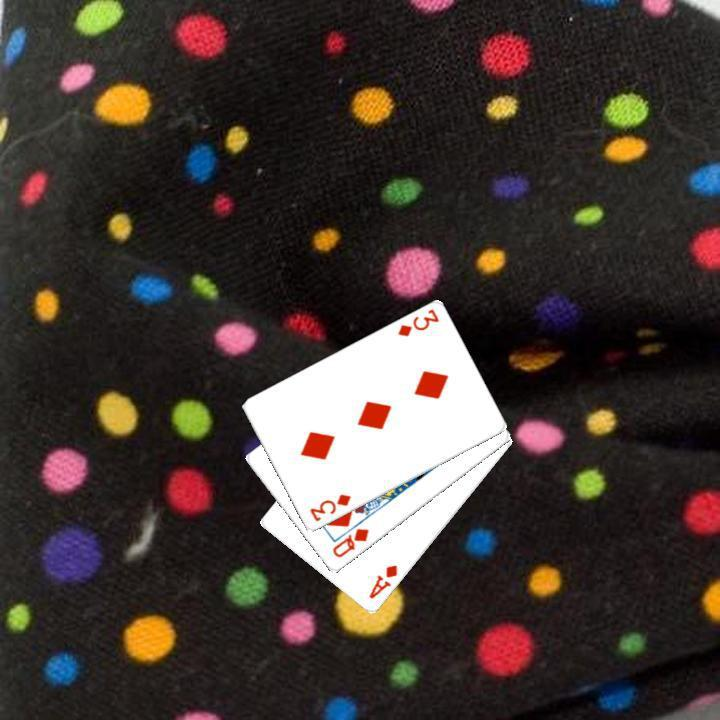3: (305, 490, 353, 524), (393, 305, 441, 339)
A: (364, 561, 400, 601)
Q: (328, 524, 371, 560)
